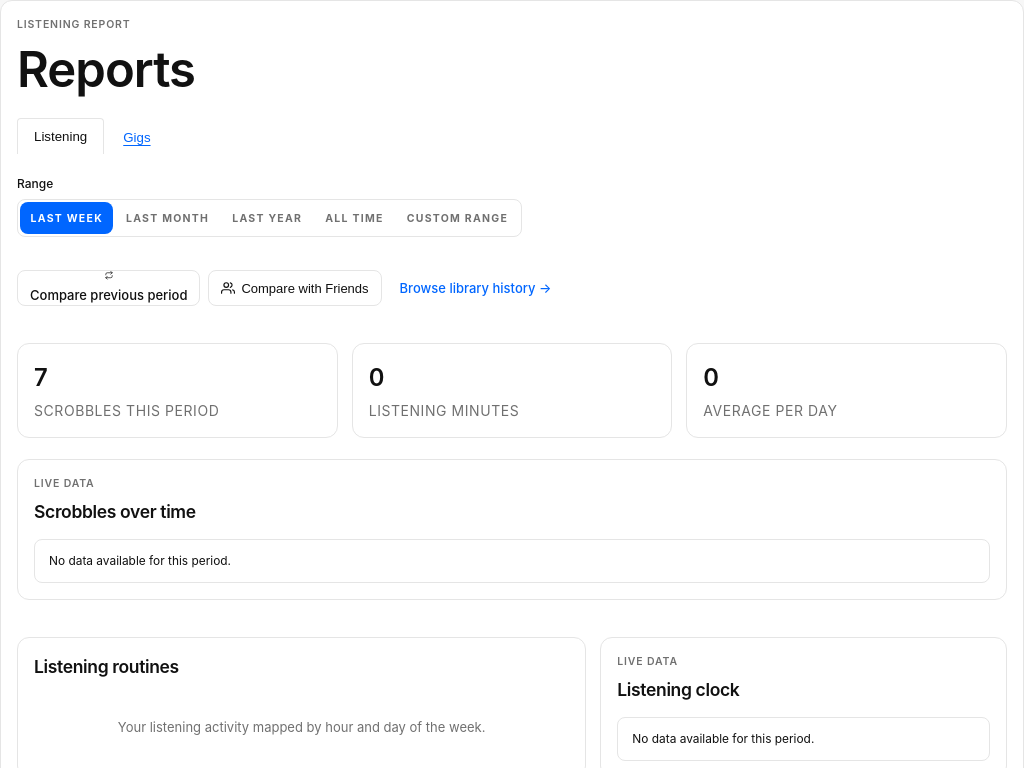
Test case: date filtering › refetches Reports data when the date range preset changes
The width and height of the screenshot is (1024, 768).
Expected: the text "7" is shown, [34, 363, 48, 392]
Expected: the text "Scrobbles this period" is shown, [34, 402, 219, 419]
Step 1. Select "Last month" in the dropdown labelled "Range" → point(35, 184), box [17, 176, 53, 191]
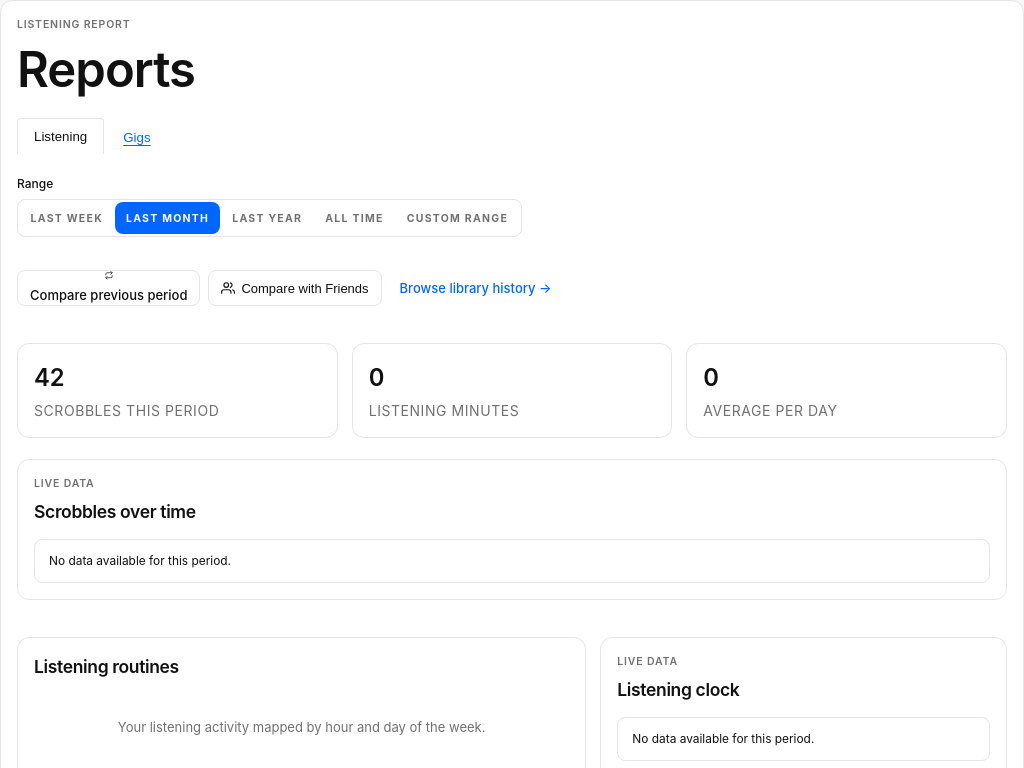
Expected: the text "Scrobbles this period" is shown, [34, 402, 219, 419]
Expected: the text "42" is shown, [34, 363, 65, 392]
